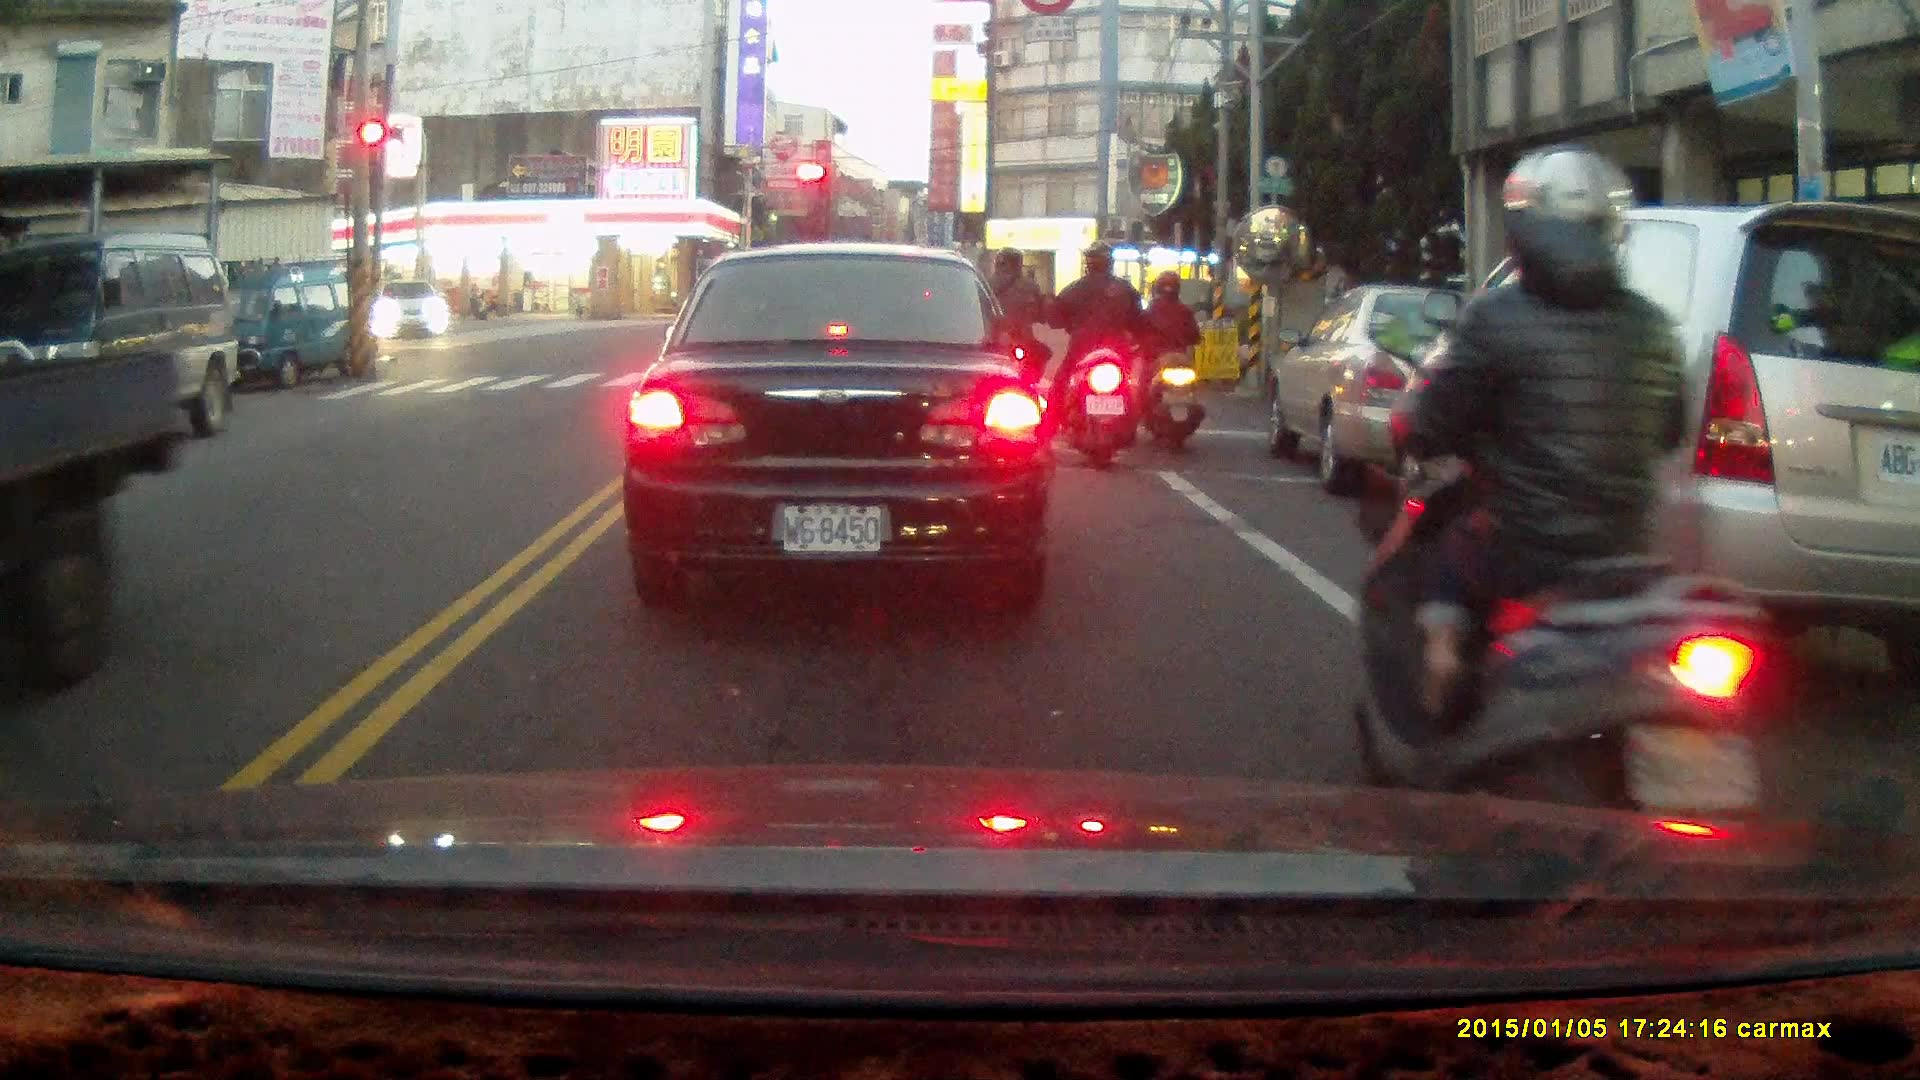rider: (1344, 142, 1781, 933), (1048, 242, 1141, 468), (964, 251, 1049, 431), (1135, 270, 1205, 451)
vehicle: (1378, 199, 1920, 686), (637, 247, 1047, 598), (1263, 286, 1598, 492), (1, 351, 196, 680), (5, 234, 243, 455), (192, 262, 383, 394), (372, 277, 451, 343)
